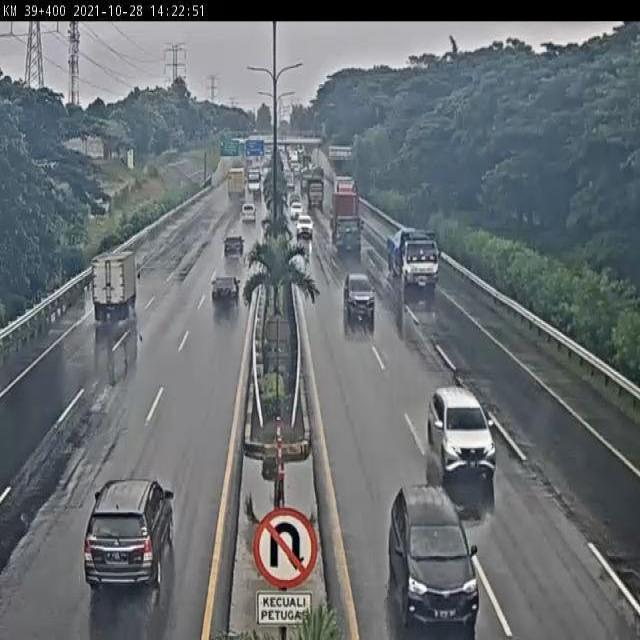car: (83, 476, 176, 589)
truck-l-: (388, 228, 443, 295)
truck-m-: (90, 249, 142, 320)
truck-xl-: (332, 192, 366, 251)
